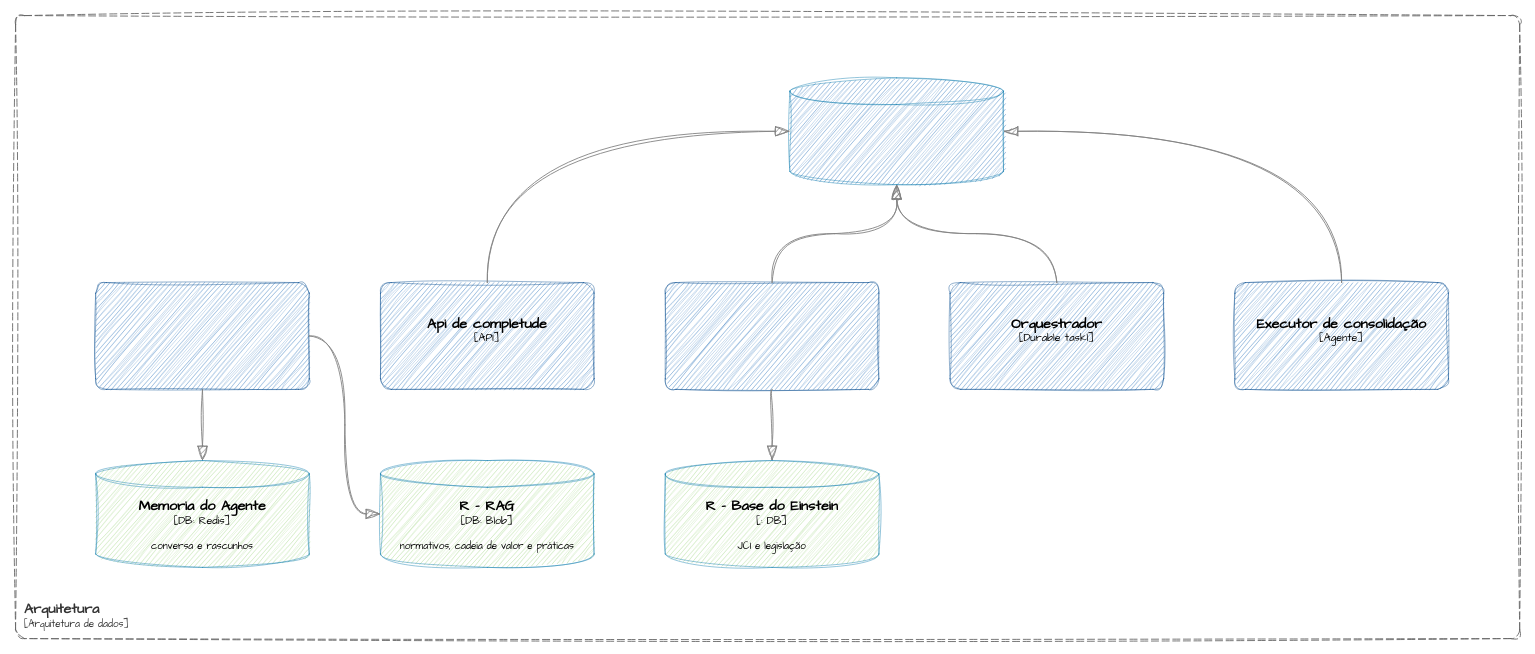
Some shapes in this 1535 by 654 pixel diagram are drawn without their labels. The shapes that lost their labels are listed below. From the top down, each one's box as (x1, y1, x2, y2) in pixels, then its label:
(789, 77, 1003, 185): Base do Agente [DB: Postgres] registro das análises
(95, 282, 309, 389): Agente de contexto [Agente]
(664, 282, 879, 389): Executor de completude [Agente]
